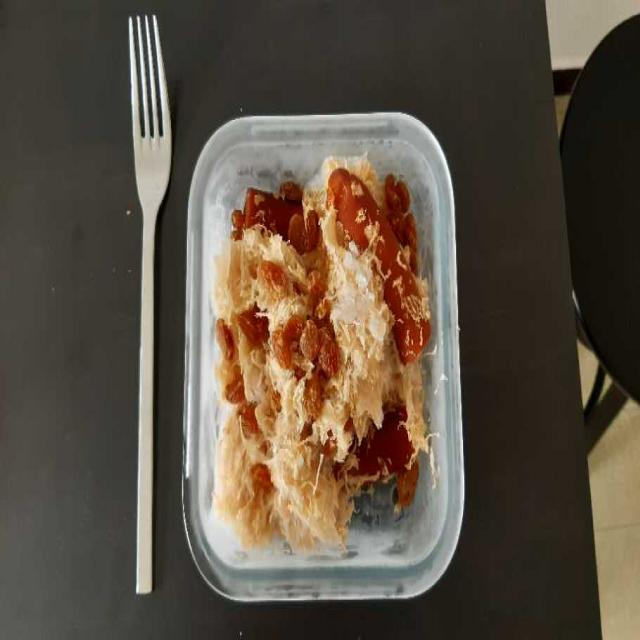dried-raisins: (220, 186, 340, 502)
